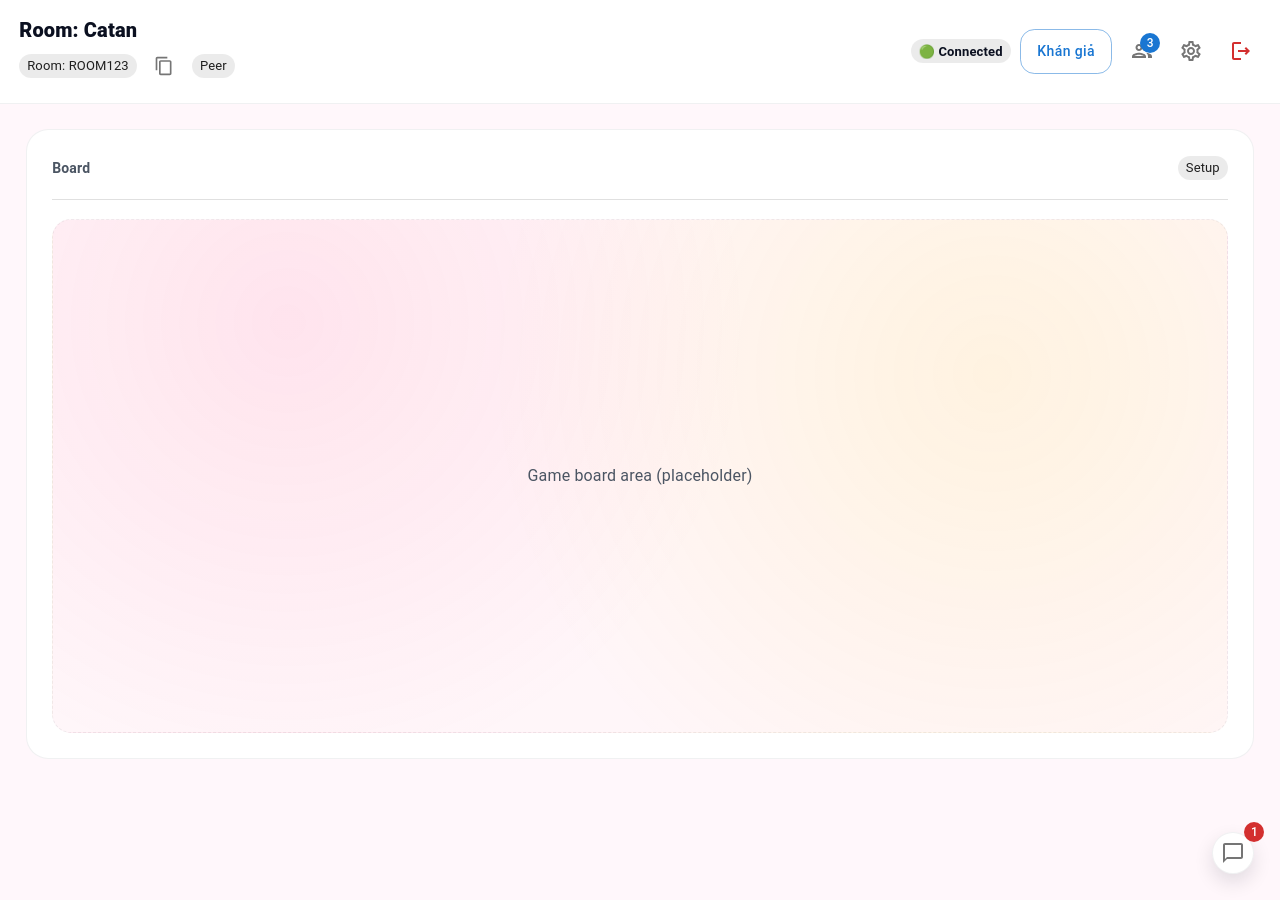
Test: GameRoomPage › unread badge increments when chat hidden and resets when chat becomes visible (Mobile)
Expected: the text "1" is shown, [1244,822,1264,842]
# Step 5) click "Open chat"
Click the button named "Open chat" at {"x": 1233, "y": 853}, box [1212,832,1254,874]
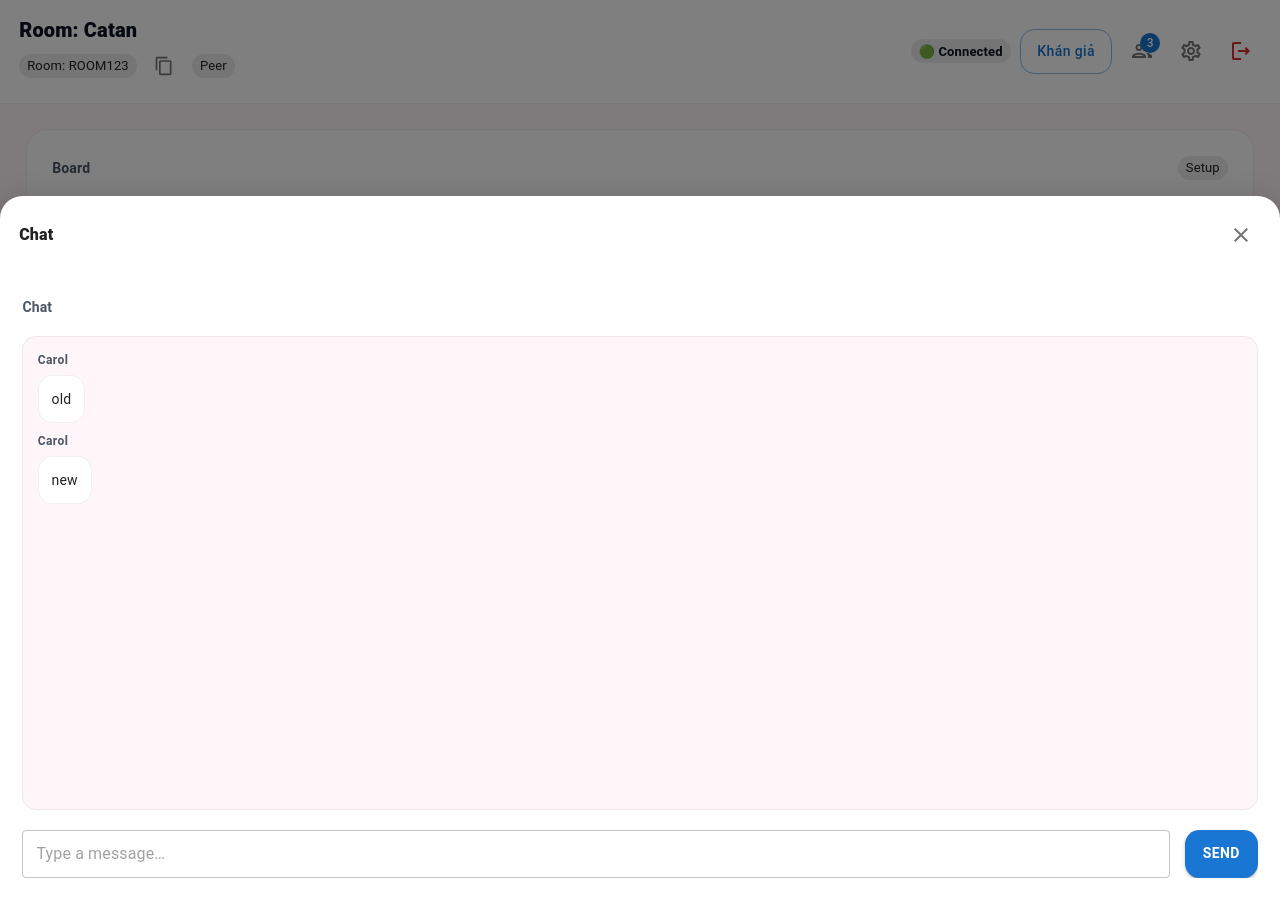
Expected: the field with placeholder "Type a message…" is shown, [22,834,1170,874]
